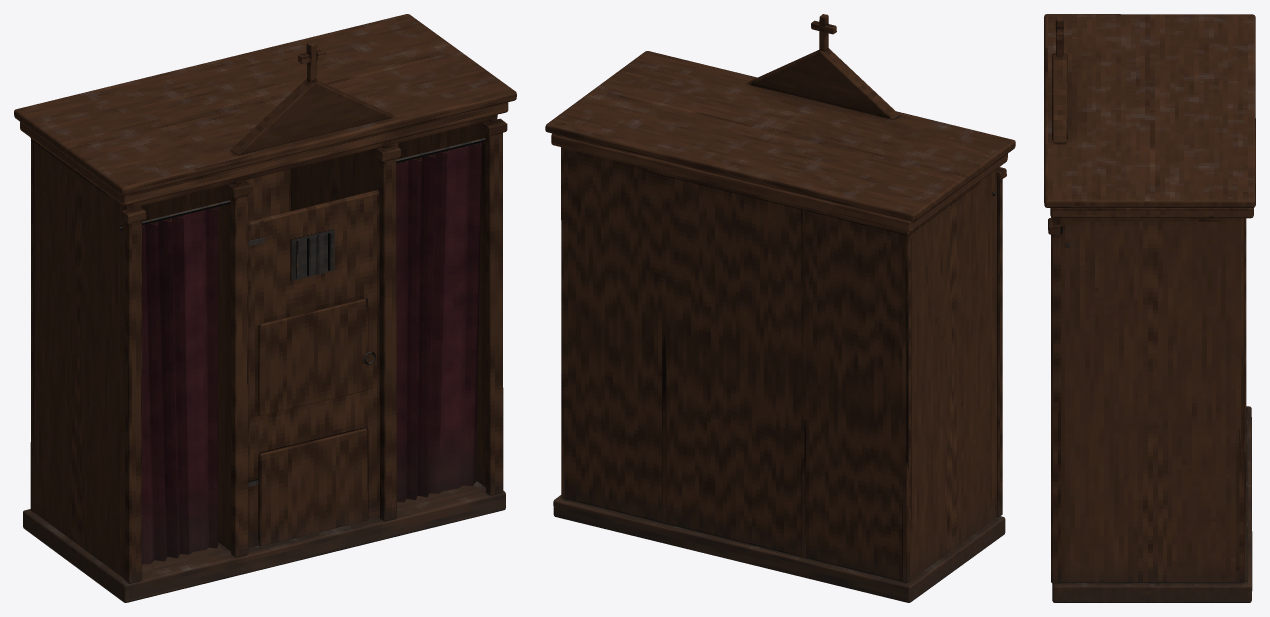
Rendered from confessional.glb.
The picture shows the model from 3 angles, left to right: view 1: azimuth 30°, elevation 25°; view 2: azimuth 150°, elevation 25°; view 3: azimuth 270°, elevation 25°; orthographic projection. The views are drawn at different scales.
Visible parts, largest first — view 1: Confessional, ConfessionalDoor; view 2: Confessional; view 3: Confessional.
Boxes of the visible parts, left/top/right/bottom form: Confessional: left=14, top=14, right=516, bottom=602; ConfessionalDoor: left=248, top=190, right=379, bottom=547; Confessional: left=545, top=14, right=1015, bottom=602; Confessional: left=1044, top=14, right=1255, bottom=602.
Bounding box in the file's own units: 2.24 × 2.76 × 1.07.
1 material, 1 textured.
